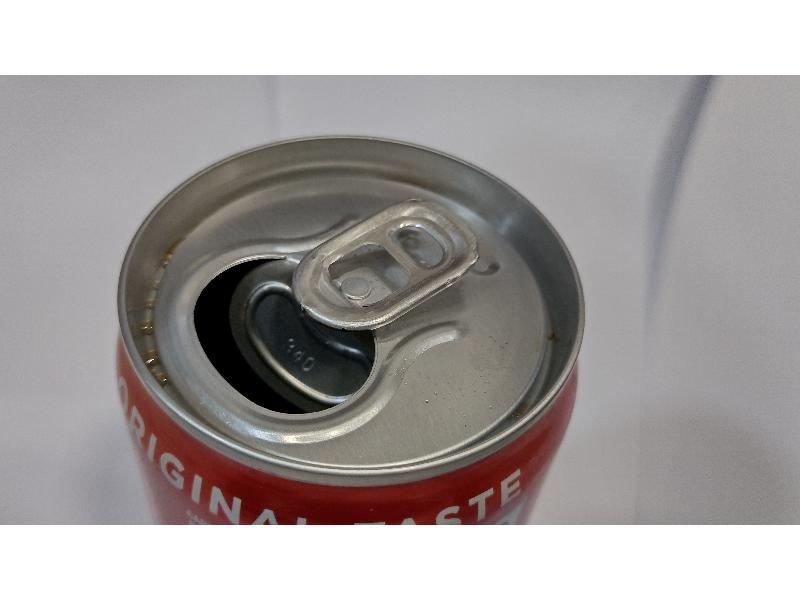can: (105, 126, 589, 526)
